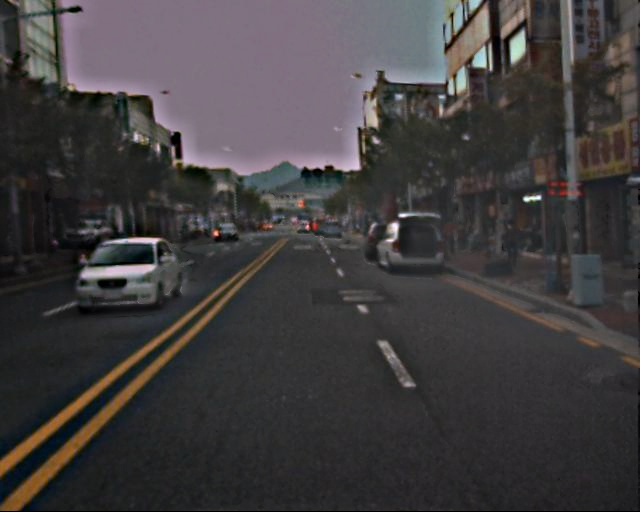person: (501, 217, 522, 269), (442, 216, 458, 254), (456, 221, 469, 252)
